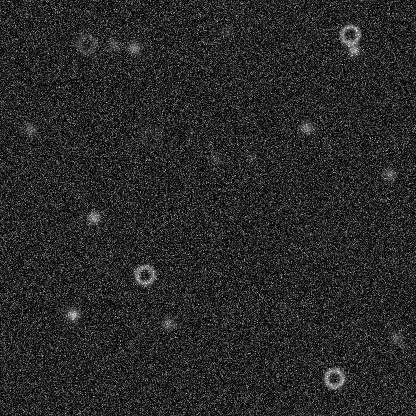Ring: (322, 366, 346, 390), (74, 31, 98, 55), (132, 262, 156, 286), (337, 22, 361, 46), (138, 125, 162, 149)
Spot: (159, 315, 175, 331), (105, 36, 121, 52), (388, 330, 404, 346), (345, 41, 361, 57), (218, 23, 234, 39), (381, 166, 397, 182), (64, 306, 80, 322), (85, 209, 101, 225), (22, 121, 38, 137), (207, 151, 223, 167), (243, 149, 259, 165), (298, 119, 314, 135), (125, 40, 141, 56)
